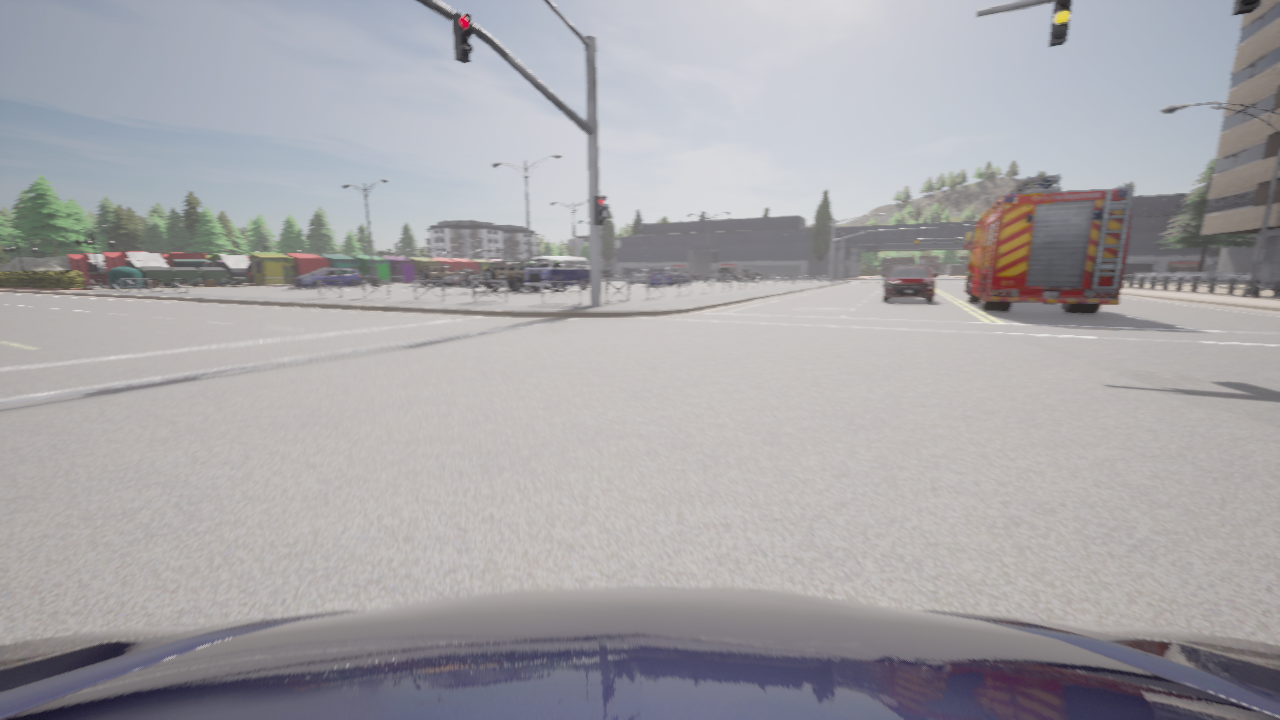cyclist: (0, 588, 1279, 719), (963, 175, 1132, 313), (524, 256, 590, 292), (483, 261, 551, 291), (882, 266, 937, 302), (294, 268, 361, 288), (415, 265, 456, 286), (649, 267, 689, 286), (443, 270, 480, 286), (737, 267, 760, 281), (717, 267, 737, 281), (630, 270, 651, 283), (469, 272, 486, 287), (682, 270, 701, 281), (601, 268, 608, 280)
